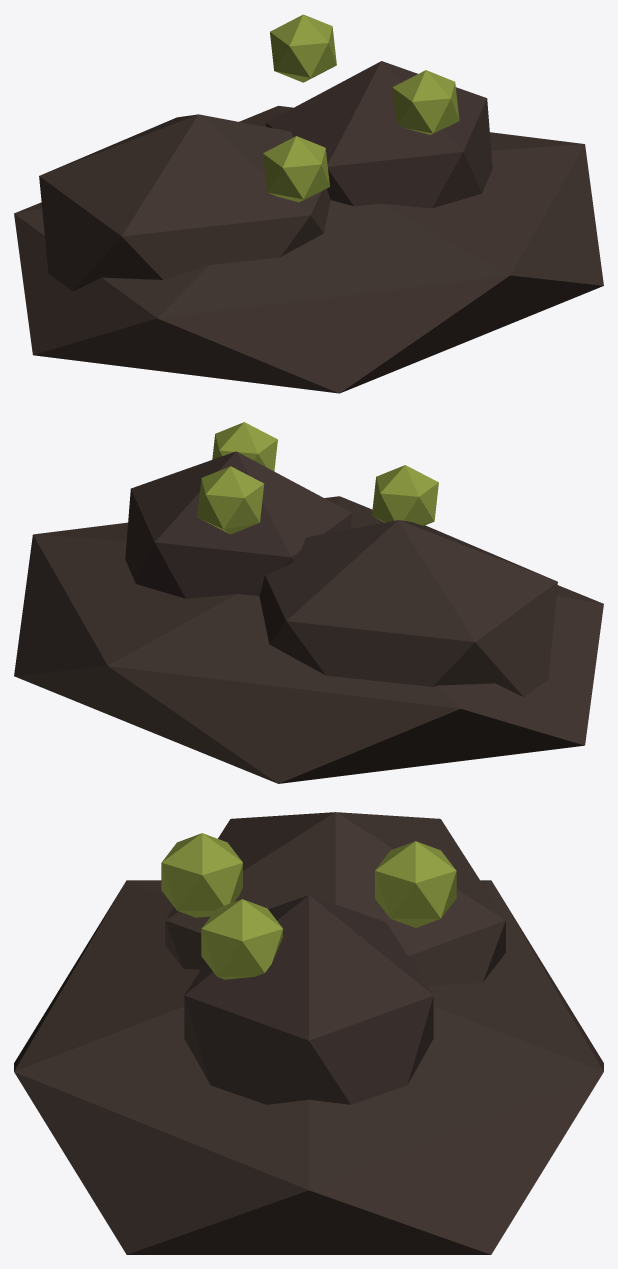
File: res_coal.glb
3 renders of one model, top to bottom at view 1: azimuth 30°, elevation 25°; view 2: azimuth 150°, elevation 25°; view 3: azimuth 270°, elevation 25°, orthographic. The views are drawn at different scales.
Parts seen in each view (by area): view 1: res_coal; view 2: res_coal; view 3: res_coal.
Part boxes in pixels (x1,y1,x2,y2): res_coal: (14, 14, 603, 393); res_coal: (14, 422, 603, 783); res_coal: (14, 812, 603, 1254).
Size of the model in its own units: 0.3041 by 0.138 by 0.2212.
